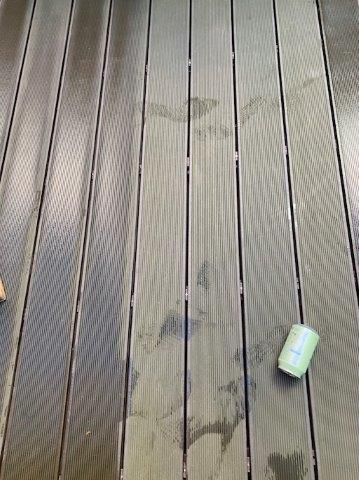kaleng: (277, 323, 320, 379)
